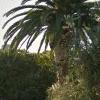Tree: (23, 0, 100, 61)
